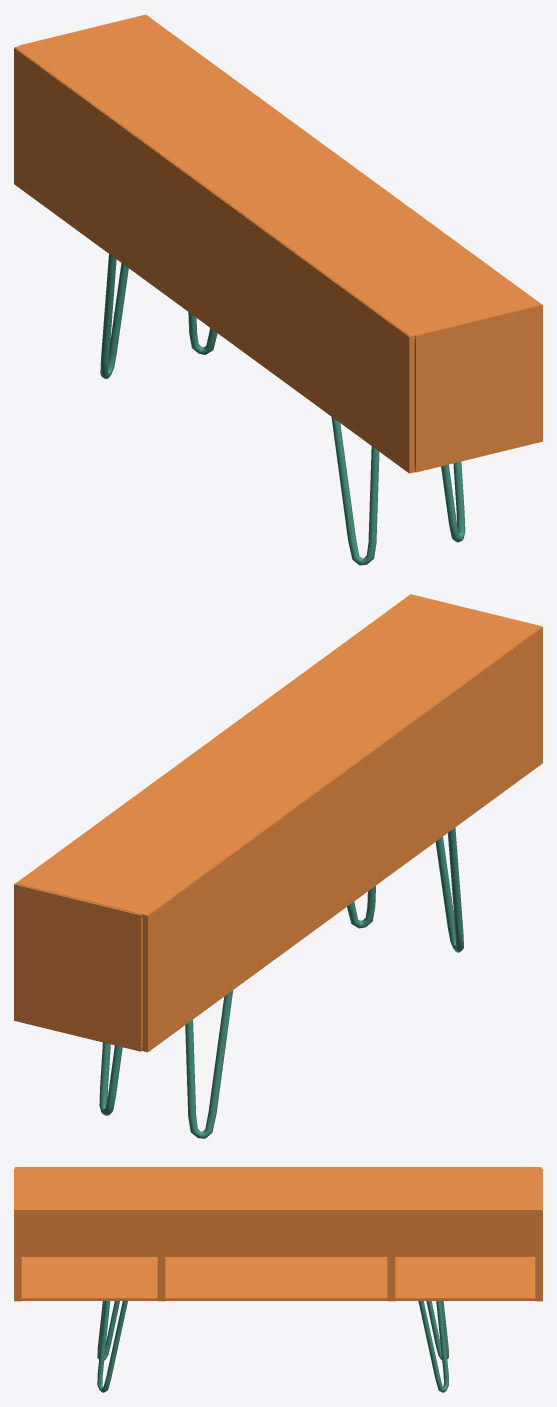
Rendered from Livingroom2_Shelf.fbx.
The picture shows the model from 3 angles, top to bottom: view 1: azimuth 30°, elevation 25°; view 2: azimuth 150°, elevation 25°; view 3: azimuth 270°, elevation 25°; orthographic projection. The views are drawn at different scales.
Parts seen in each view (by area): view 1: Livingroom2_Shelf; view 2: Livingroom2_Shelf; view 3: Livingroom2_Shelf.
Part boxes in pixels (x1,y1,x2,y2): Livingroom2_Shelf: (14,14,542,565); Livingroom2_Shelf: (14,594,542,1138); Livingroom2_Shelf: (14,1167,542,1392).
Size of the model in its own units: 49.94 by 101 by 258.
